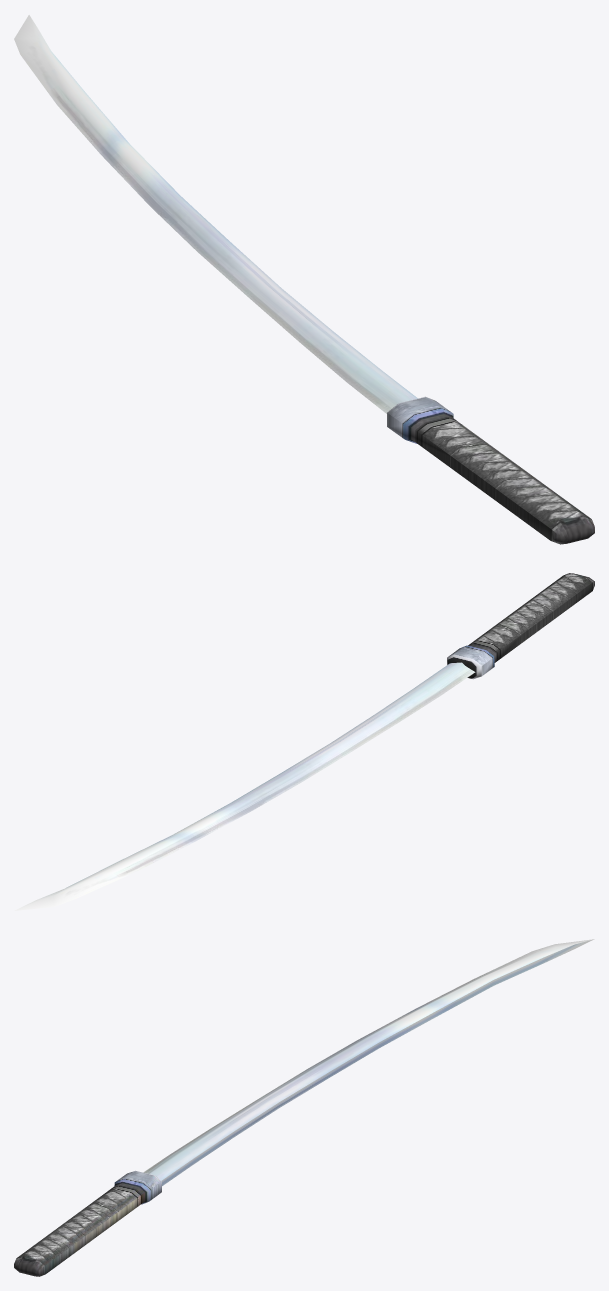
Rendered from sword_hakujin_hakujin1.glb.
3 views of the same model, one above another, from view 1: azimuth 30°, elevation 25°; view 2: azimuth 150°, elevation 25°; view 3: azimuth 330°, elevation 25° (orthographic). The views are drawn at different scales.
Size of the model in its own units: 0.1733 by 0.0312 by 1.37.
1 material, 1 textured.
